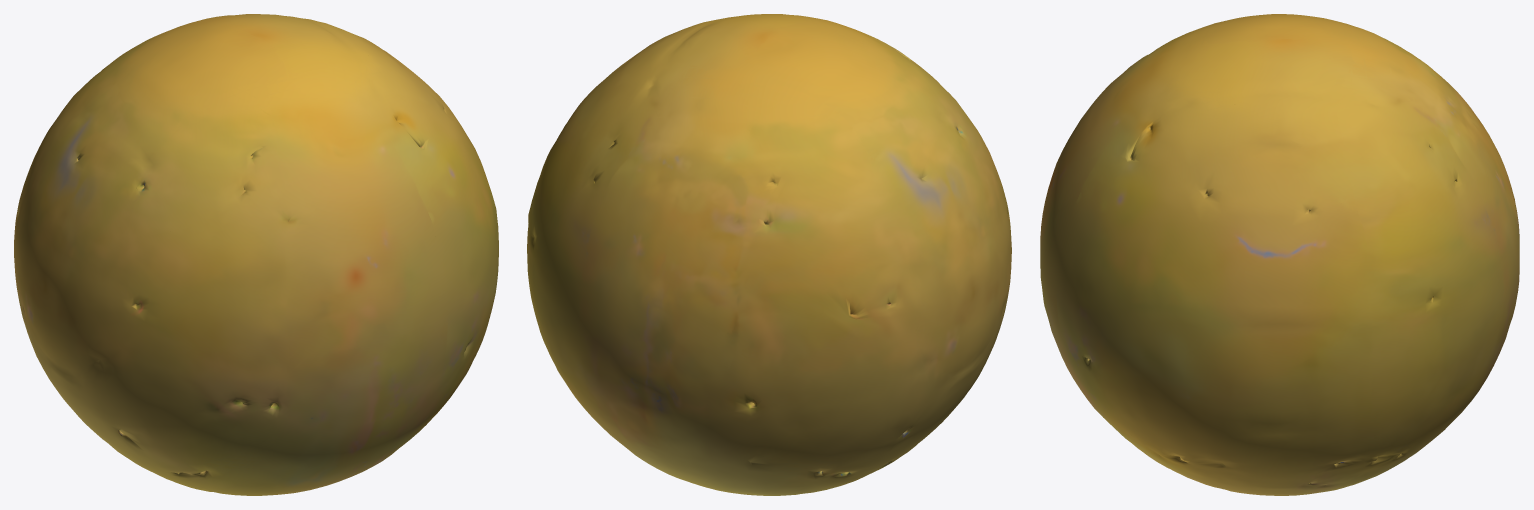
The model's file is lhs-1140b.glb.
The picture shows the model from 3 angles, left to right: view 1: azimuth 30°, elevation 25°; view 2: azimuth 150°, elevation 25°; view 3: azimuth 270°, elevation 25°; orthographic projection.
Visible parts, largest first — view 1: Mesh; view 2: Mesh; view 3: Mesh.
Boxes of the visible parts, x1,y1,x2,y2 form: Mesh: (14, 14, 498, 495); Mesh: (527, 14, 1011, 495); Mesh: (1040, 14, 1519, 495).
Bounding box in the file's own units: 0.9923 × 0.9907 × 0.9938.
Materials: 1 (1 with a texture image).
